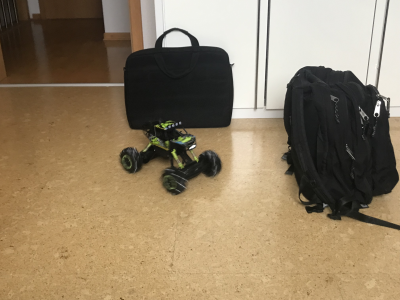remote control car: (117, 117, 223, 197)
